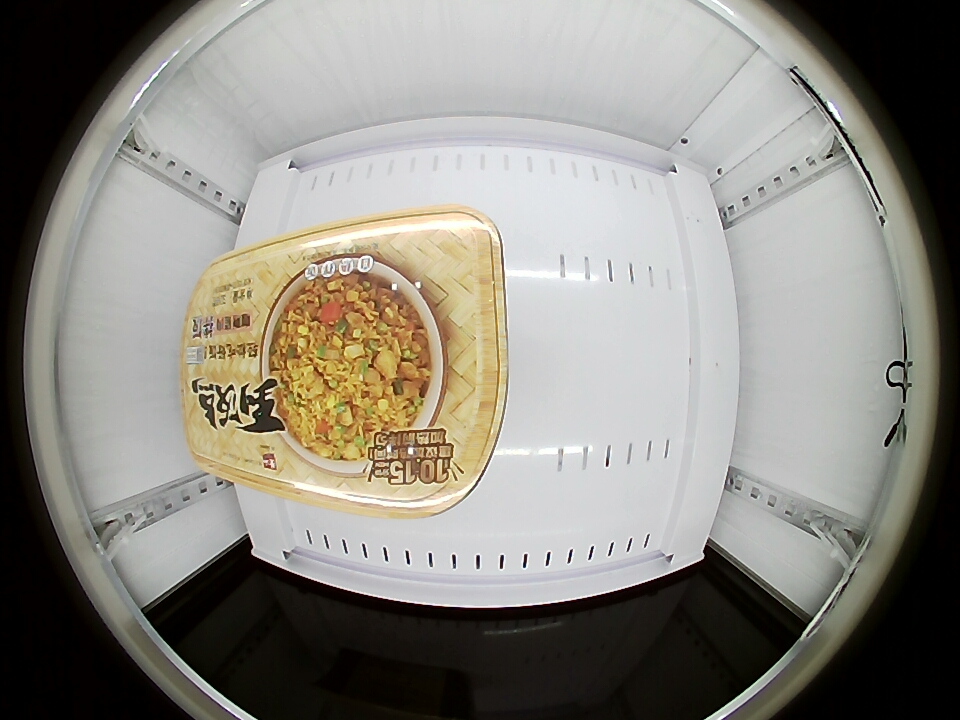daofandian3: (178, 219, 509, 519)
